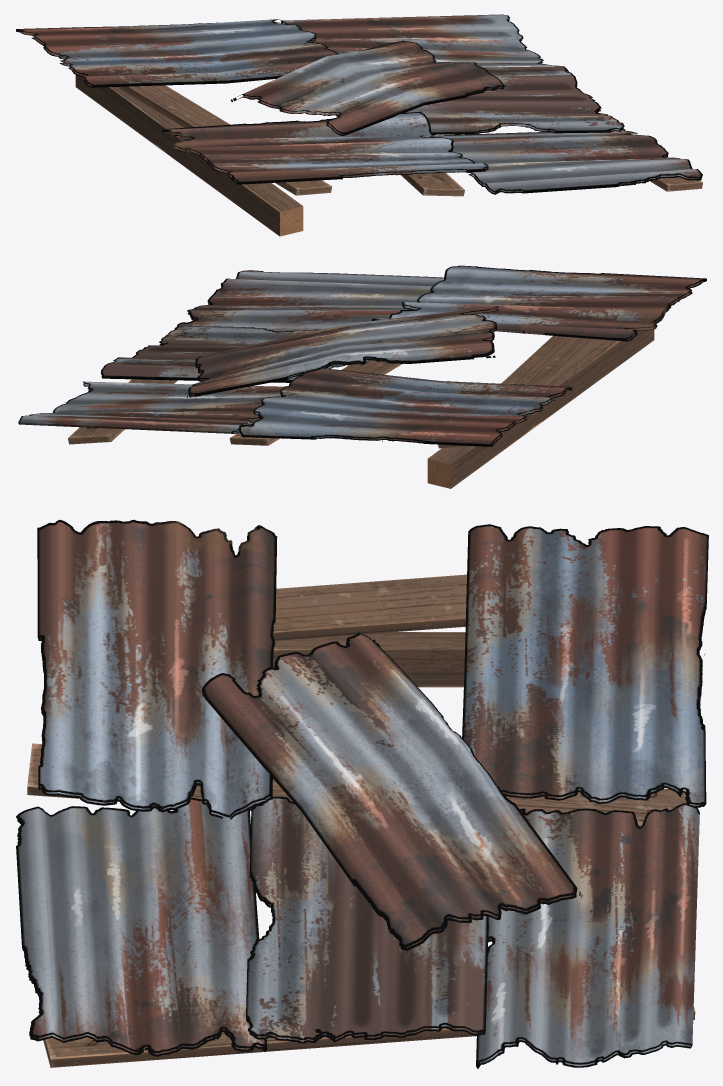
Rendered from roof05_3m_B.fbx.
3 views of the same model, one above another, from view 1: azimuth 30°, elevation 25°; view 2: azimuth 150°, elevation 25°; view 3: azimuth 270°, elevation 25° (orthographic). The views are drawn at different scales.
Parts seen in each view (by area): view 1: roof05_3m_B; view 2: roof05_3m_B; view 3: roof05_3m_B.
Part boxes in pixels (x1,y1,x2,y2): roof05_3m_B: [16, 14, 702, 236]; roof05_3m_B: [18, 265, 706, 488]; roof05_3m_B: [16, 519, 708, 1068].
Size of the model in its own units: 419 by 104 by 333.
